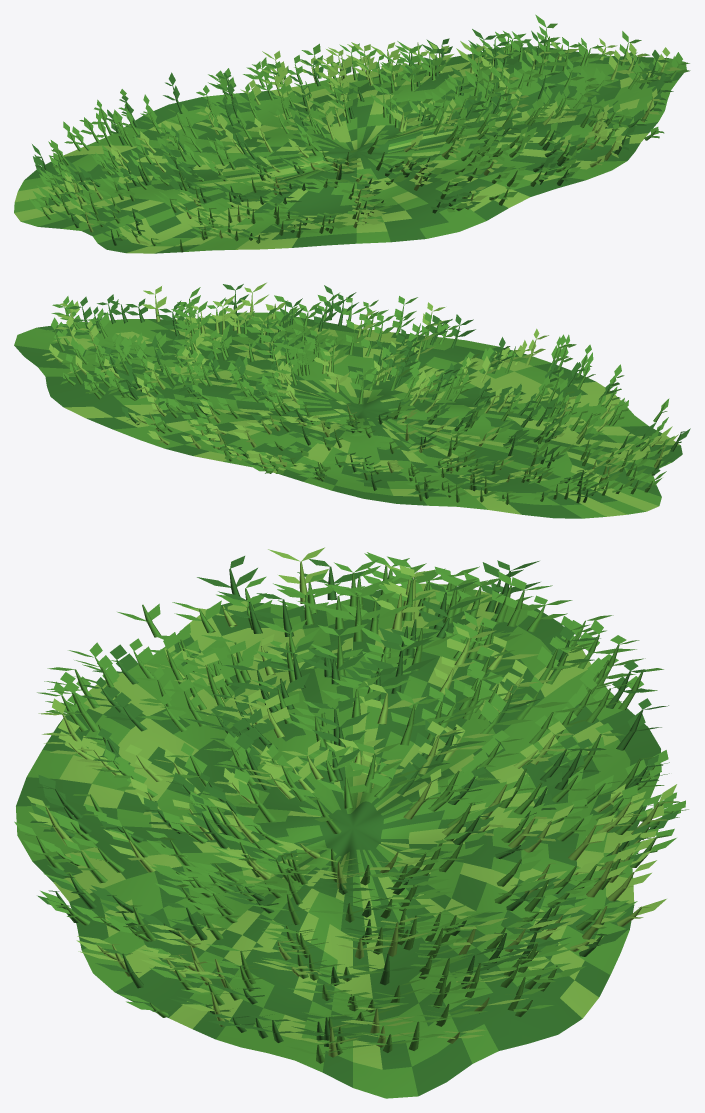
Rendered from FreshwaterMossCarpet.fbx.
The picture shows the model from 3 angles, top to bottom: view 1: azimuth 30°, elevation 25°; view 2: azimuth 150°, elevation 25°; view 3: azimuth 270°, elevation 25°; orthographic projection. The views are drawn at different scales.
Parts seen in each view (by area): view 1: Broad moss carpet | irregular underlayer, Broad moss carpet | dense fronds; view 2: Broad moss carpet | irregular underlayer, Broad moss carpet | dense fronds; view 3: Broad moss carpet | irregular underlayer, Broad moss carpet | dense fronds.
Boxes of the visible parts, box(x1,y1,x2,y2) form: Broad moss carpet | irregular underlayer: box(14, 47, 686, 253); Broad moss carpet | dense fronds: box(29, 14, 690, 252); Broad moss carpet | irregular underlayer: box(14, 312, 682, 518); Broad moss carpet | dense fronds: box(41, 282, 690, 504); Broad moss carpet | irregular underlayer: box(16, 583, 660, 1098); Broad moss carpet | dense fronds: box(14, 547, 688, 1063).
Bounding box in the file's own units: 3.78 × 0.2262 × 2.06.
